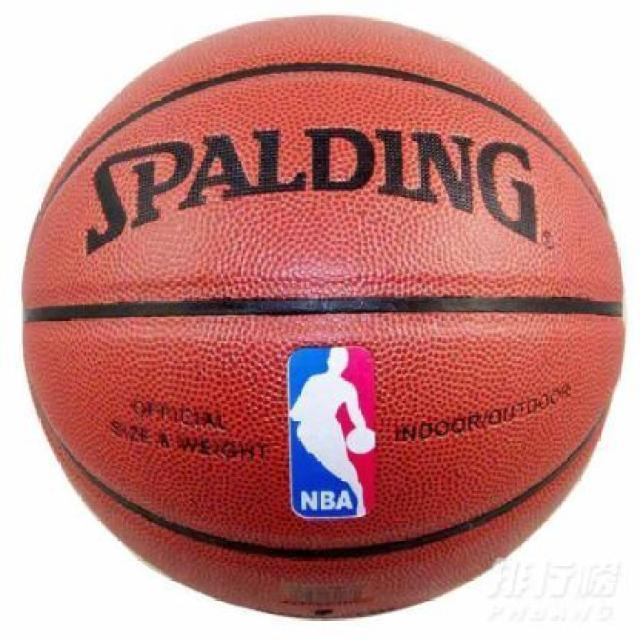basketball: (19, 14, 627, 618)
